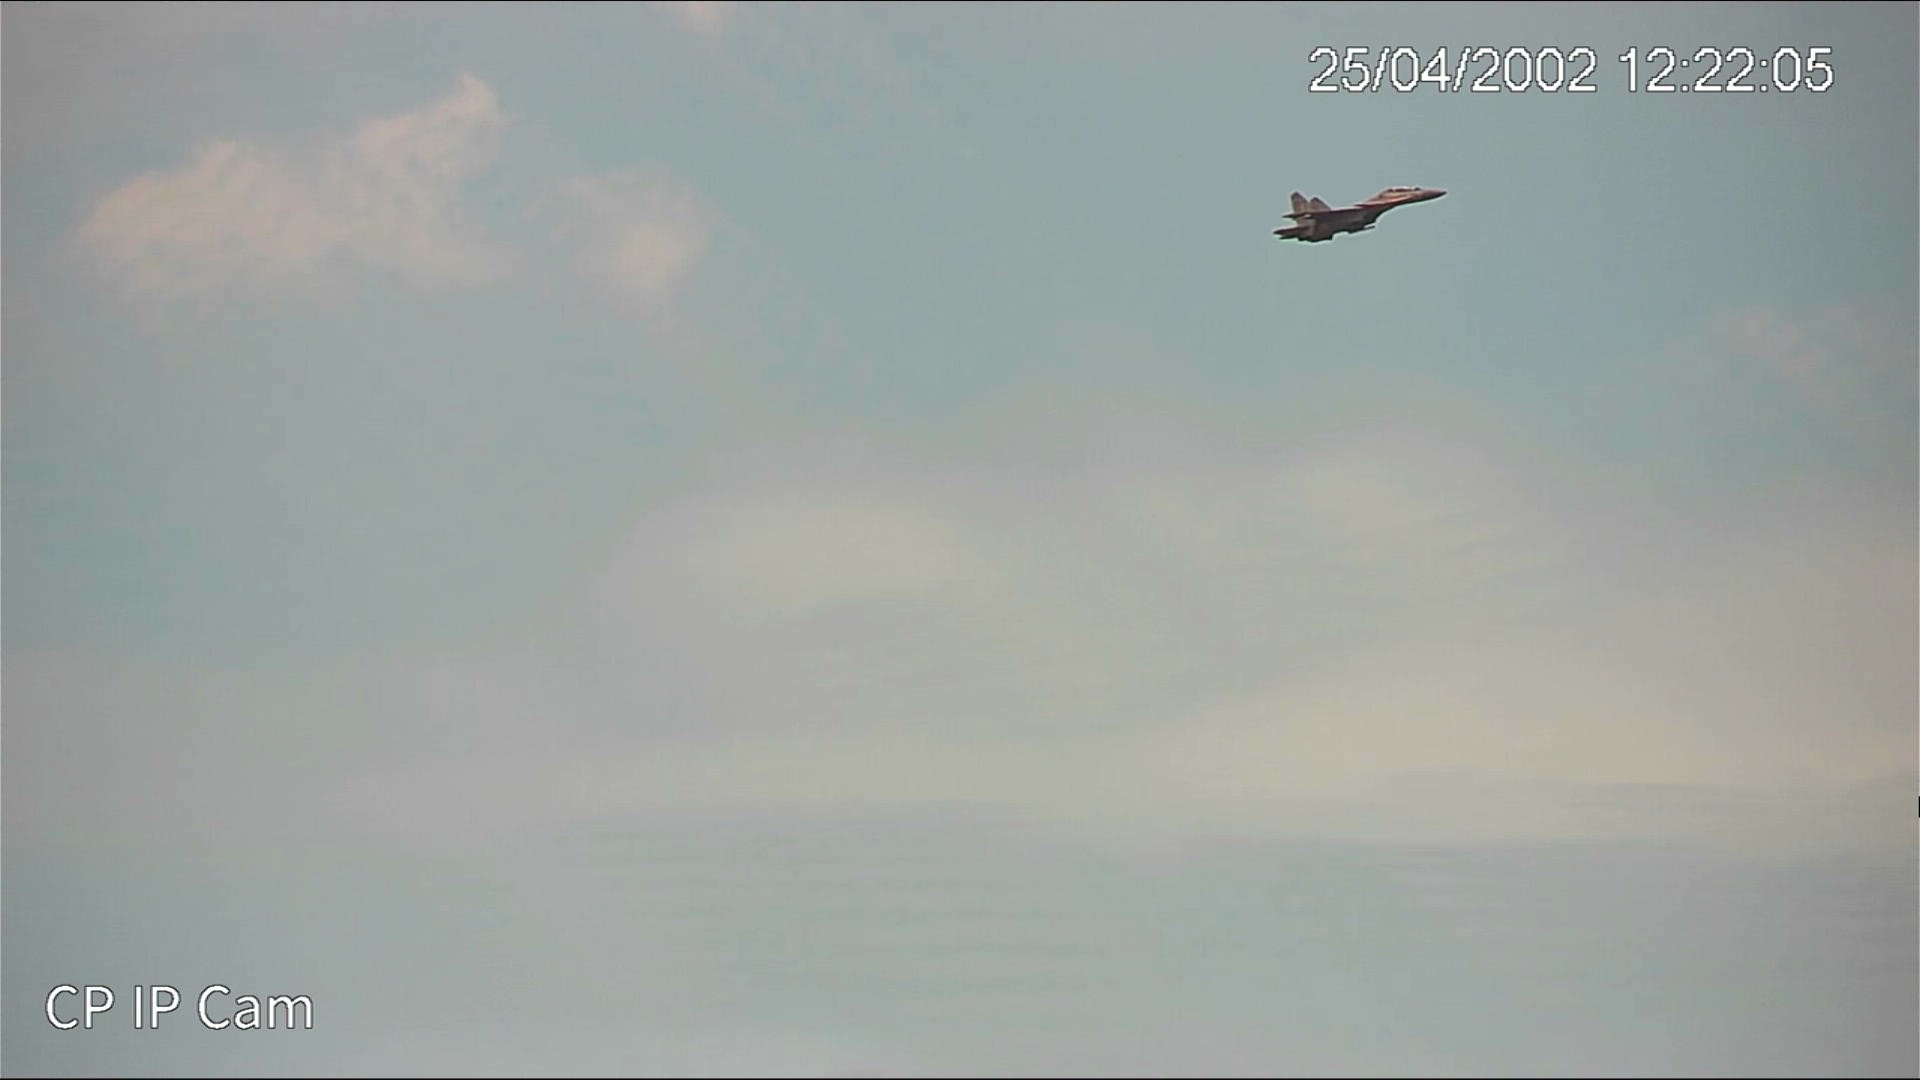SU_30: (1263, 177, 1456, 240)
